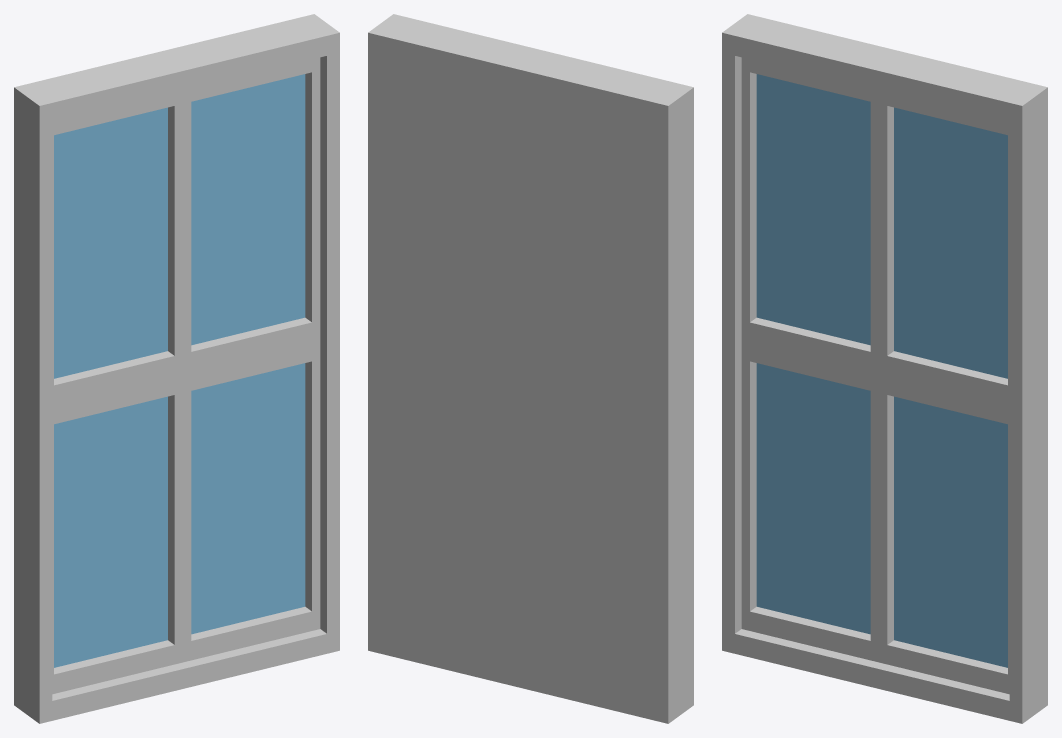
The model's file is window.fbx.
The picture shows the model from 3 angles, left to right: view 1: azimuth 30°, elevation 25°; view 2: azimuth 150°, elevation 25°; view 3: azimuth 330°, elevation 25°; orthographic projection.
Parts seen in each view (by area): view 1: Cube.022; view 2: Cube.022; view 3: Cube.022.
Boxes of the visible parts, x1,y1,x2,y2 form: Cube.022: (14, 14, 339, 723); Cube.022: (368, 14, 693, 723); Cube.022: (722, 14, 1047, 723).
Bounding box in the file's own units: 134 × 264 × 19.81.
